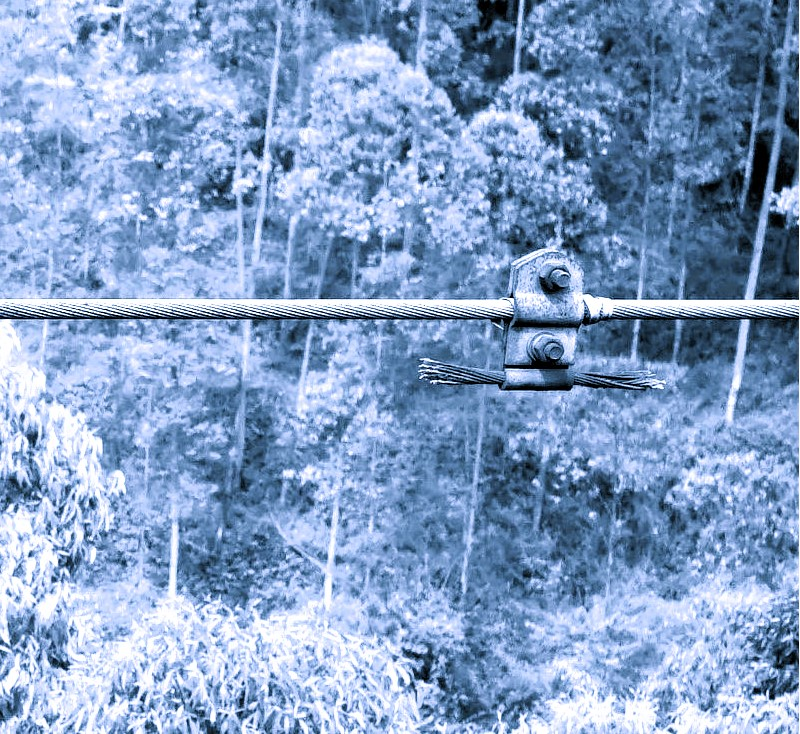Damage of shockproof hammer: (410, 238, 675, 421)
